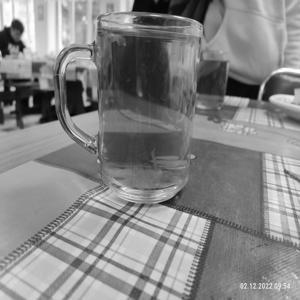tea: (85, 8, 209, 215)
